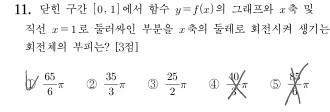choice: (21, 74, 39, 91)
not-choice: (146, 77, 160, 91), (268, 77, 281, 91), (206, 77, 219, 90), (85, 78, 98, 90)
